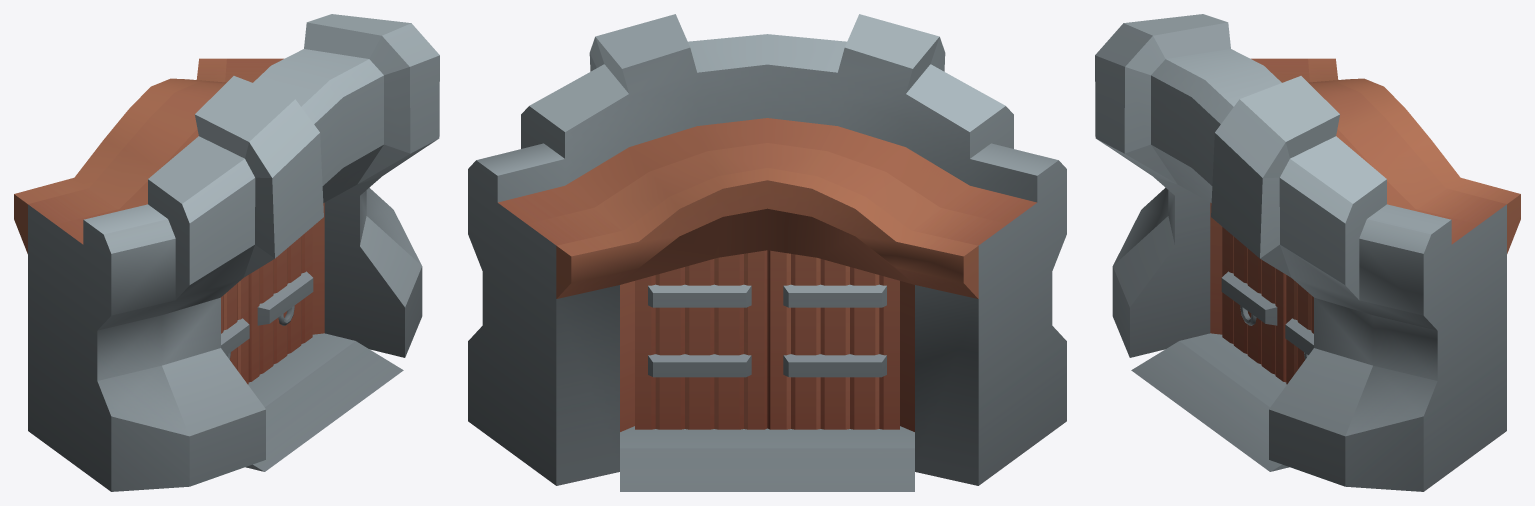
File: wall_corner_A_gate.gltf
3 renders of one model, left to right at view 1: azimuth 30°, elevation 25°; view 2: azimuth 150°, elevation 25°; view 3: azimuth 270°, elevation 25°, orthographic. The views are drawn at different scales.
Parts seen in each view (by area): view 1: wall_corner_A_gate, wall_corner_A_gate_door_left, wall_corner_A_gate_door_right; view 2: wall_corner_A_gate, wall_corner_A_gate_door_left, wall_corner_A_gate_door_right; view 3: wall_corner_A_gate, wall_corner_A_gate_door_right, wall_corner_A_gate_door_left.
Boxes of the visible parts, x1,y1,x2,y2 form: wall_corner_A_gate: (14, 14, 439, 491); wall_corner_A_gate_door_left: (248, 227, 313, 382); wall_corner_A_gate_door_right: (221, 275, 249, 384); wall_corner_A_gate: (468, 14, 1066, 491); wall_corner_A_gate_door_left: (635, 250, 767, 429); wall_corner_A_gate_door_right: (767, 250, 899, 429); wall_corner_A_gate: (1095, 14, 1520, 491); wall_corner_A_gate_door_right: (1221, 227, 1286, 382); wall_corner_A_gate_door_left: (1285, 275, 1313, 384).
Bounding box in the file's own units: 1.76 × 1.42 × 1.53.
1 material, 1 textured.
